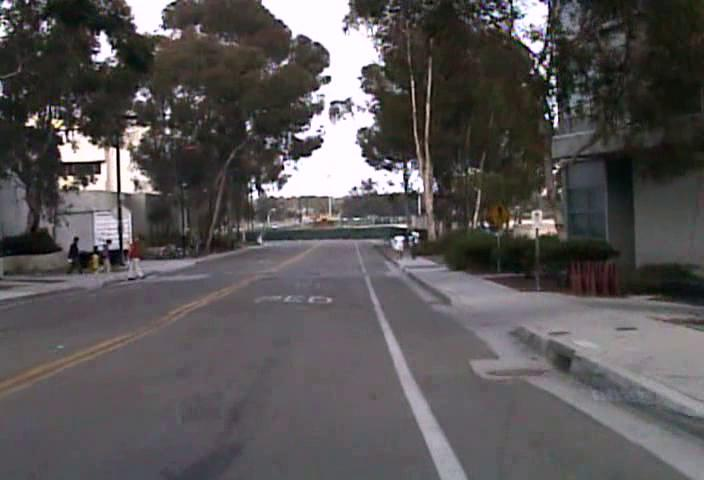pedestrianCrossing: (485, 198, 511, 230)
